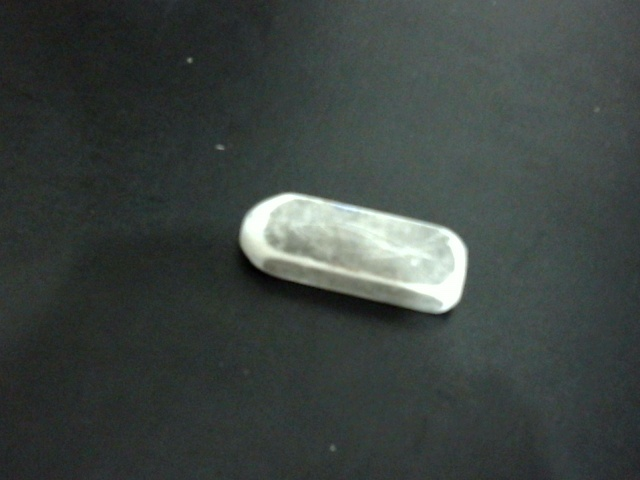eraser: (237, 145, 502, 353)
